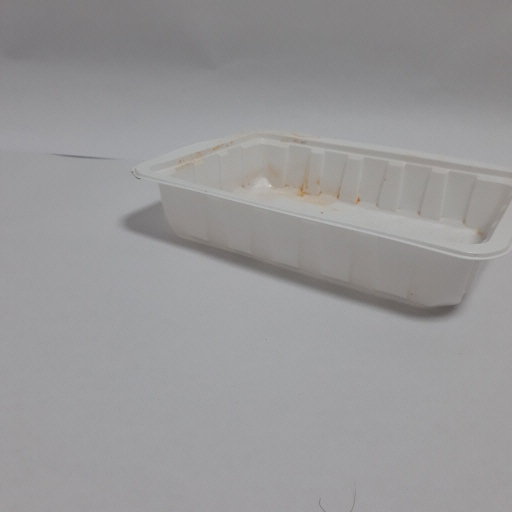Plastic_4: (128, 128, 512, 317)
